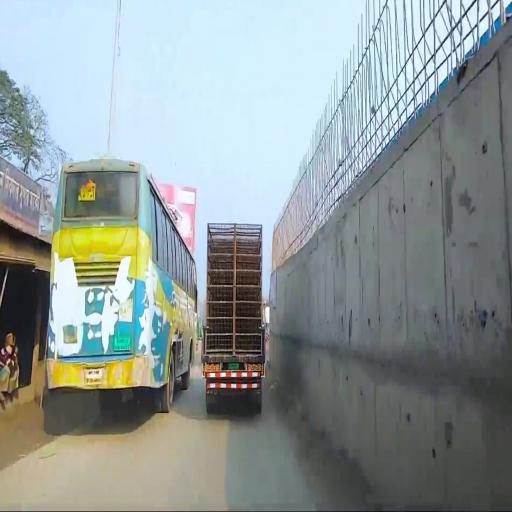bus: (50, 159, 198, 413)
pickup: (194, 316, 265, 415)
